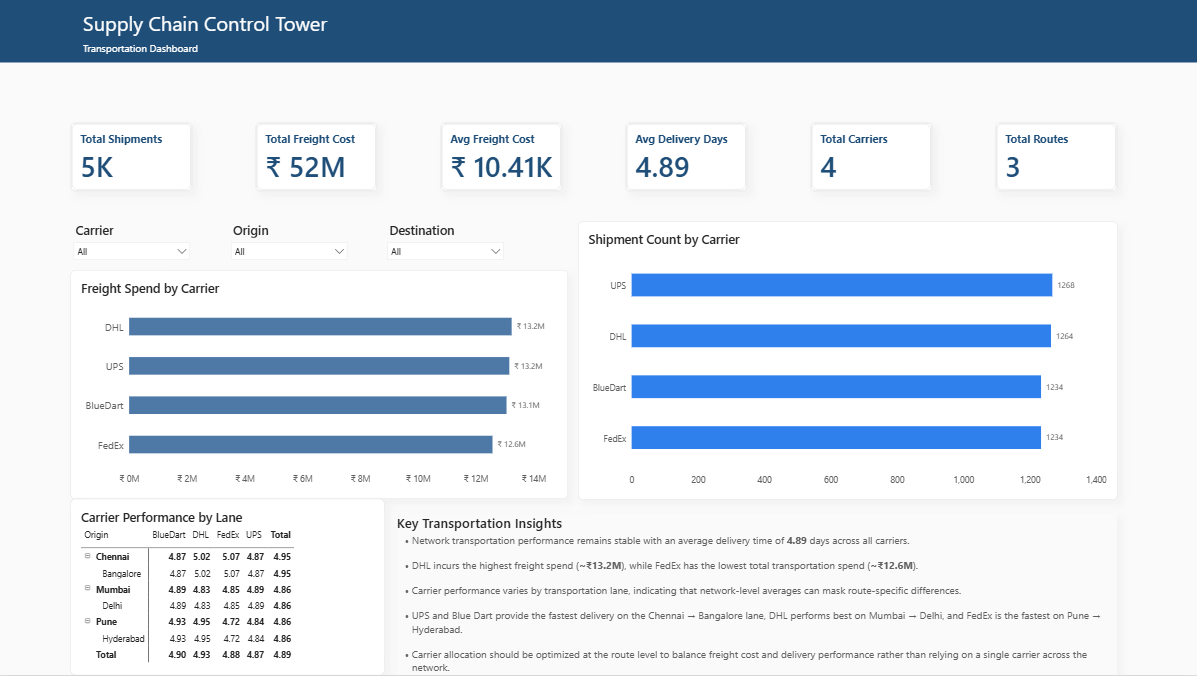

Layout of this report page (visuals, bound fields, positions):
{"tool":"powerbi","page":{"name":"Transportation Dashboard","canvas":[1920,1080],"ordinal":2},"visuals":[{"type":"shape","title":"Supply Chain Control Tower","box":[0,0,1919.6,100],"z":0},{"type":"textbox","box":[116,0,473,75.5],"z":1000},{"type":"textbox","box":[116,49.7,622.1,49.7],"z":2000},{"type":"cardVisual","title":"Total Orders","fields":{"Data":["Measures (2).Total Freight Cost"]},"box":[411.9,195.1,195,110],"z":3000},{"type":"cardVisual","title":"Total Orders","fields":{"Data":["Measures (2).Avg Freight Cost"]},"box":[707.9,195.1,195,110],"z":4000},{"type":"cardVisual","title":"Total Orders","fields":{"Data":["Measures (2).Avg Delivery Days"]},"box":[1003.8,195.1,195,110],"z":5000},{"type":"cardVisual","title":"Total Orders","fields":{"Data":["Measures (2).Total Carriers"]},"box":[1299.8,195.1,195,110],"z":6000},{"type":"cardVisual","title":"Total Orders","fields":{"Data":["Measures (2).Total Routes"]},"box":[1595.7,195.1,195,110],"z":7000},{"type":"cardVisual","title":"Total Orders","fields":{"Data":["Measures (2).Total Shipments"]},"box":[116,195.1,195,110],"z":8000},{"type":"slicer","title":"Total Current Stock","fields":{"Values":["Transportation.Carrier"]},"box":[116,354,196,78],"z":9000},{"type":"slicer","title":"Total Current Stock","fields":{"Values":["Transportation.Origin"]},"box":[367,354,196,78],"z":10000},{"type":"slicer","title":"Total Current Stock","fields":{"Values":["Transportation.Destination"]},"box":[618,354,196,78],"z":11000},{"type":"clusteredBarChart","title":"Freight Spend by Carrier","fields":{"Category":["Transportation.Carrier"],"Y":["Measures (2).Total Freight Cost"]},"box":[116,432,796,366],"z":12000},{"type":"clusteredBarChart","title":"Shipment Count by Carrier","fields":{"Category":["Transportation.Carrier"],"Y":["CountNonNull(Transportation.Shipment_ID)"]},"box":[927.6,353.4,863.2,445.4],"z":13000},{"type":"pivotTable","title":"Carrier Performance by Lane","fields":{"Columns":["Transportation.Carrier"],"Rows":["Transportation.Origin","Transportation.Destination"],"Values":["Measures (2).Avg Delivery Days"]},"box":[116,798,502,282],"z":14000},{"type":"textbox","title":"Key Transportation Insights","box":[638.7,822.7,1152.2,257.7],"z":15000}]}

Visuals, with their boxes in screenshot pixels (x1, y1, x2, y2), scaled from the page's 1920x1080 canvas onto the 1197x676 screenshot:
"Supply Chain Control Tower" shape: (x1=0, y1=0, x2=1196, y2=63)
textbox: (x1=72, y1=0, x2=367, y2=47)
textbox: (x1=72, y1=31, x2=460, y2=62)
"Total Orders" cardVisual: (x1=257, y1=122, x2=378, y2=191)
"Total Orders" cardVisual: (x1=441, y1=122, x2=563, y2=191)
"Total Orders" cardVisual: (x1=626, y1=122, x2=747, y2=191)
"Total Orders" cardVisual: (x1=810, y1=122, x2=932, y2=191)
"Total Orders" cardVisual: (x1=995, y1=122, x2=1116, y2=191)
"Total Orders" cardVisual: (x1=72, y1=122, x2=194, y2=191)
"Total Current Stock" slicer: (x1=72, y1=222, x2=195, y2=270)
"Total Current Stock" slicer: (x1=229, y1=222, x2=351, y2=270)
"Total Current Stock" slicer: (x1=385, y1=222, x2=507, y2=270)
"Freight Spend by Carrier" clusteredBarChart: (x1=72, y1=270, x2=569, y2=499)
"Shipment Count by Carrier" clusteredBarChart: (x1=578, y1=221, x2=1116, y2=500)
"Carrier Performance by Lane" pivotTable: (x1=72, y1=499, x2=385, y2=675)
"Key Transportation Insights" textbox: (x1=398, y1=515, x2=1117, y2=675)
